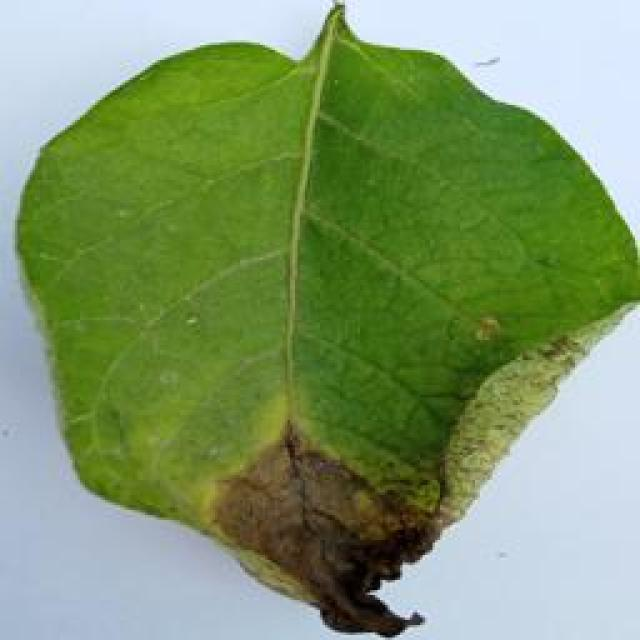Potato_Late_Blight: (17, 4, 628, 635)
